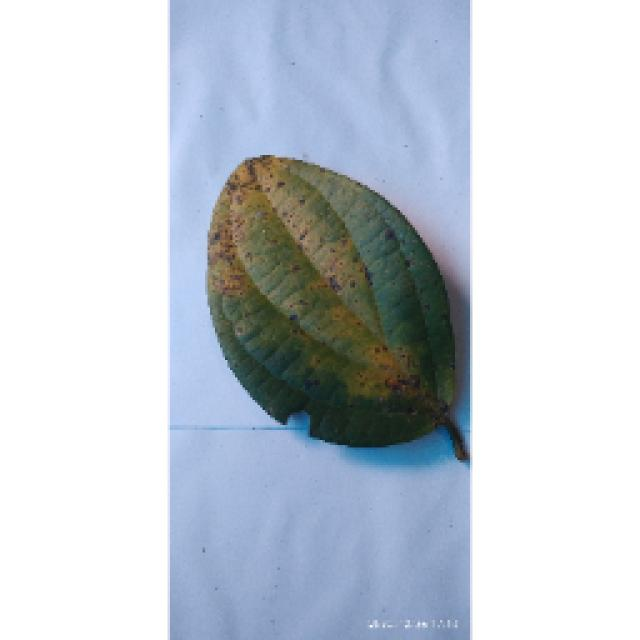slow-decline: (192, 140, 468, 455)
